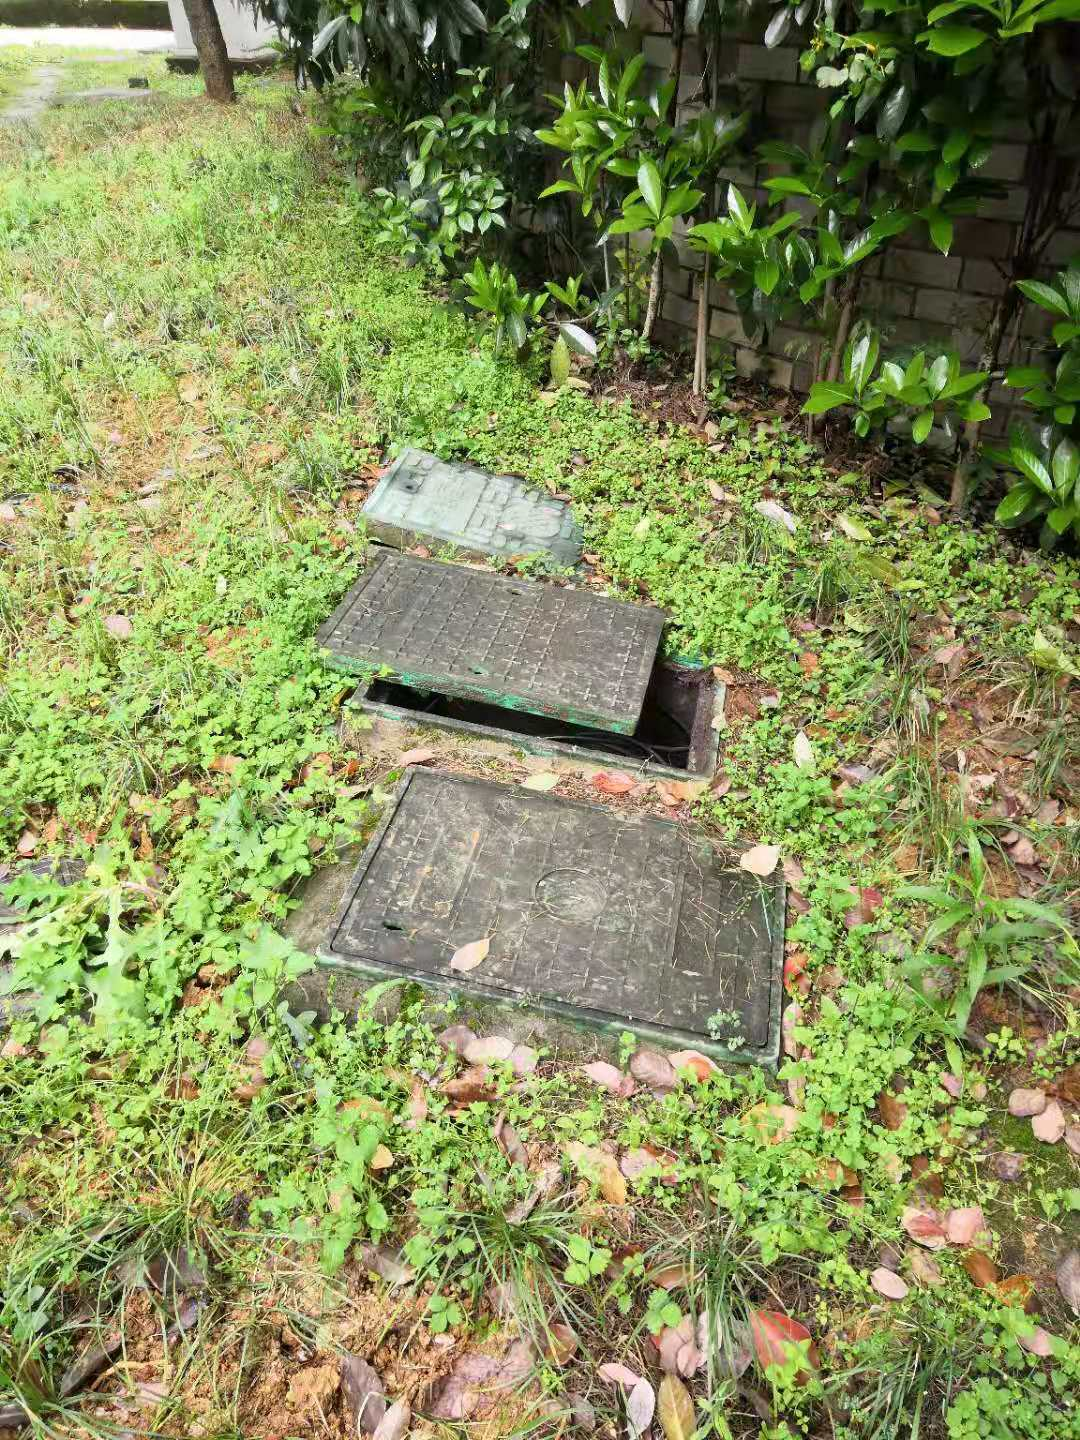well: (317, 760, 791, 1073), (309, 550, 729, 777)
